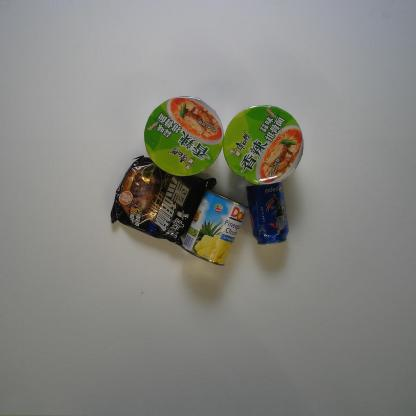Canned Food: (181, 186, 249, 266)
Drink: (244, 177, 291, 248)
Instant Noodles: (107, 153, 216, 246), (221, 102, 306, 187), (142, 93, 226, 179)
